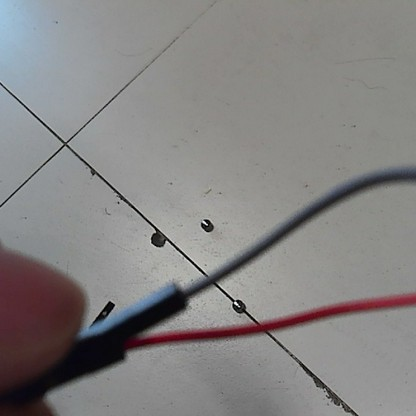ironball: (197, 214, 214, 233), (230, 296, 245, 314)
